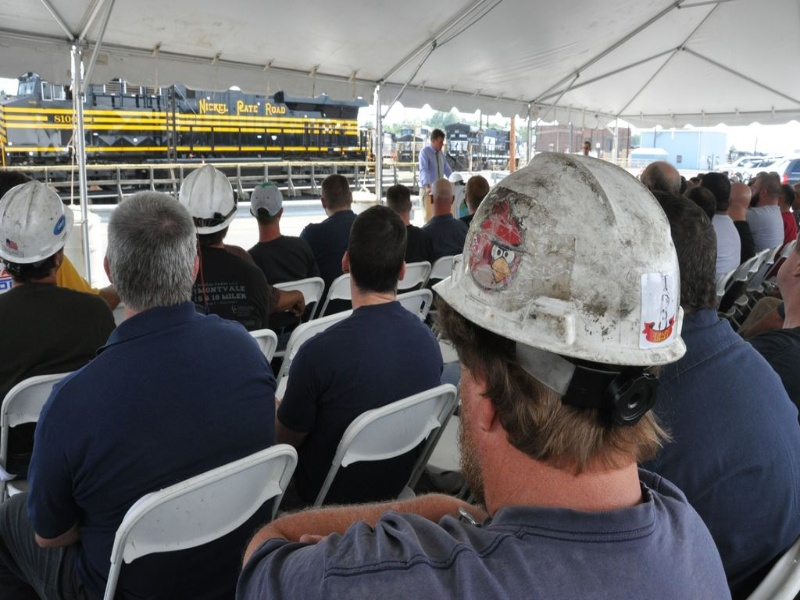Baret: (469, 153, 697, 363), (1, 177, 73, 258), (179, 164, 239, 233)
